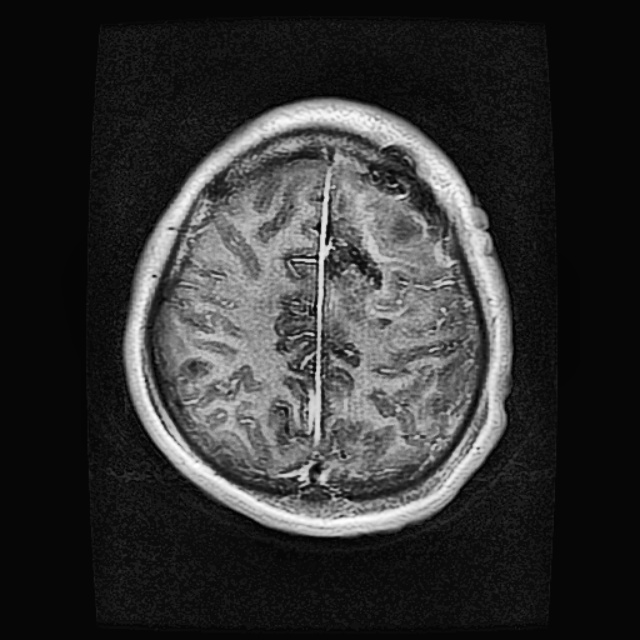Glioma: (367, 149, 435, 245)
